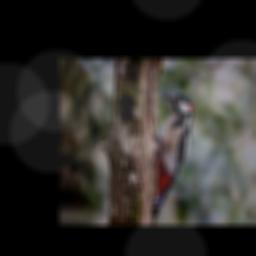Woodpecker: (151, 90, 193, 225)
